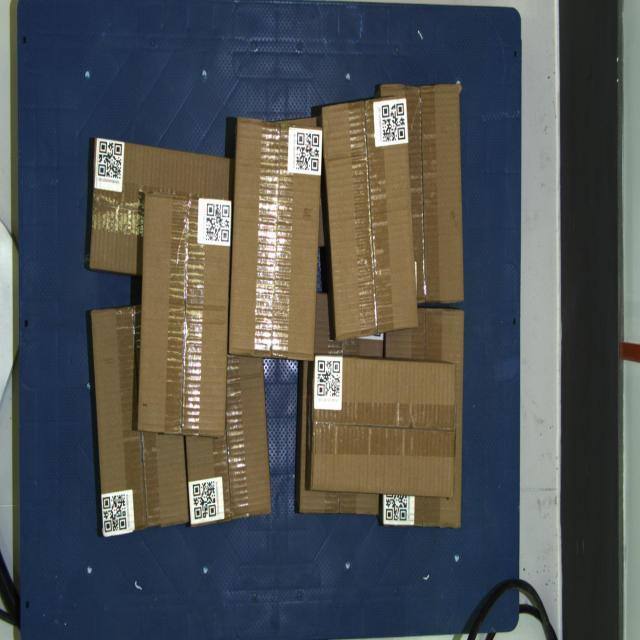box: (322, 95, 418, 340), (228, 117, 322, 360), (138, 194, 232, 436), (310, 354, 456, 498)
